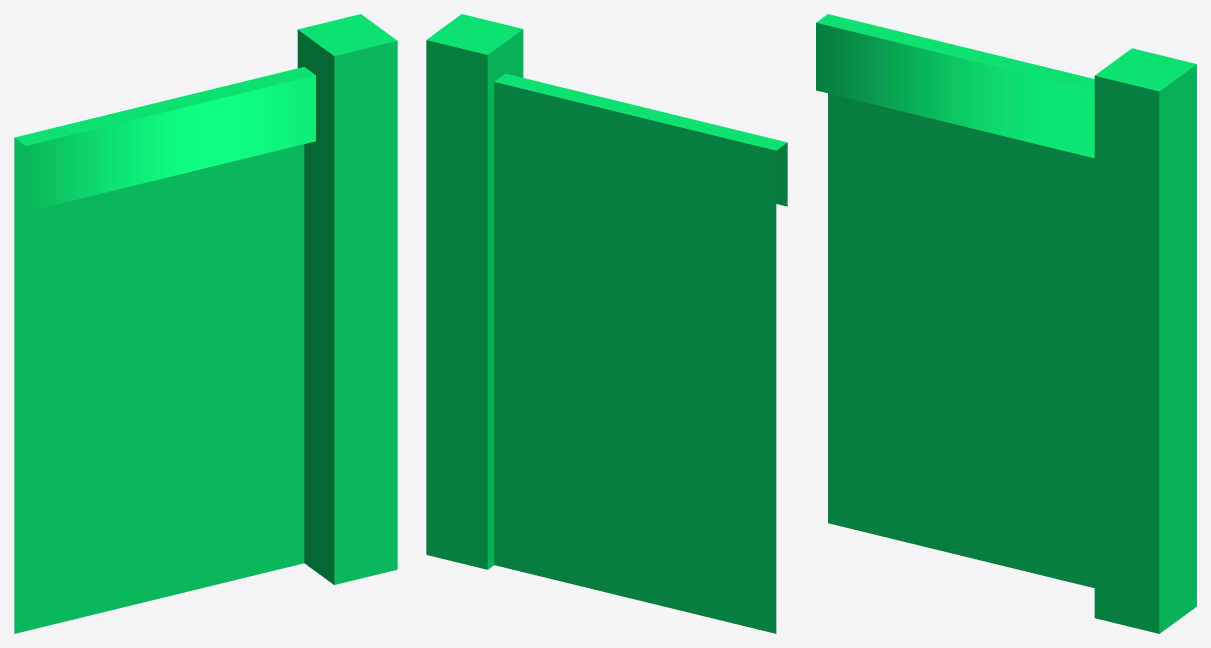
The model's file is StoneWall_Short_Collision.FBX.
3 views of the same model, side by side, from view 1: azimuth 30°, elevation 25°; view 2: azimuth 150°, elevation 25°; view 3: azimuth 330°, elevation 25° (orthographic). The views are drawn at different scales.
Parts seen in each view (by area): view 1: StoneWall_Short_Collision; view 2: StoneWall_Short_Collision; view 3: StoneWall_Short_Collision.
Boxes of the visible parts, left/top/right/bottom form: StoneWall_Short_Collision: left=14, top=14, right=397, bottom=633; StoneWall_Short_Collision: left=426, top=14, right=787, bottom=633; StoneWall_Short_Collision: left=816, top=14, right=1196, bottom=633.
Size of the model in its own units: 4.39 by 6.29 by 0.7874.
